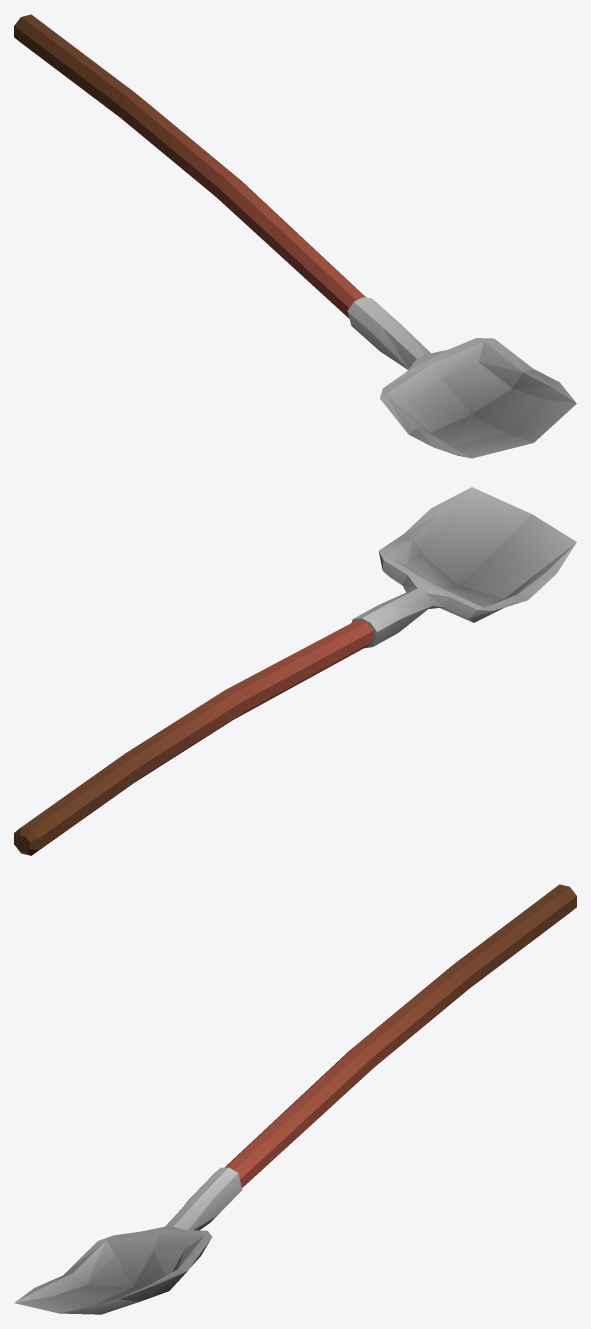
The model's file is shovel.glb.
3 renders of one model, top to bottom at view 1: azimuth 30°, elevation 25°; view 2: azimuth 150°, elevation 25°; view 3: azimuth 330°, elevation 25°, orthographic.
Visible parts, largest first — view 1: Shovel; view 2: Shovel; view 3: Shovel.
Boxes of the visible parts, x1,y1,x2,y2 form: Shovel: (14,14,576,458); Shovel: (14,487,576,855); Shovel: (14,884,576,1314).
Bounding box in the file's own units: 0.3103 × 0.2214 × 2.16.
Materials: 1 (1 with a texture image).
